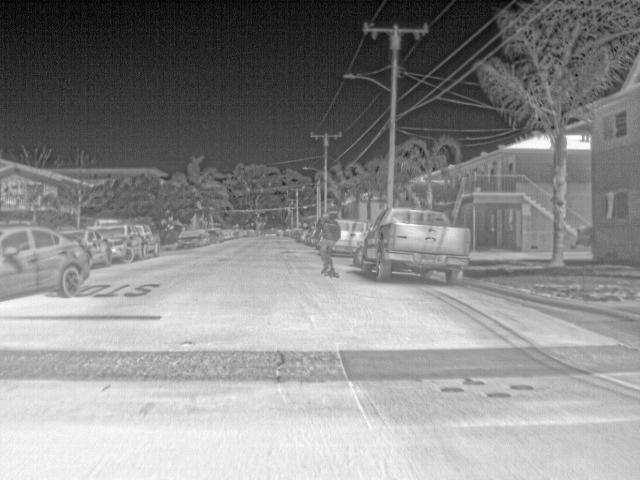car: (361, 206, 471, 280), (0, 224, 96, 299), (96, 220, 146, 264), (61, 228, 112, 266), (331, 218, 369, 255), (175, 228, 205, 248), (145, 223, 161, 257), (209, 225, 225, 243), (300, 226, 313, 245), (223, 226, 237, 240), (199, 227, 208, 246), (291, 225, 303, 238), (283, 227, 295, 238), (237, 227, 249, 238), (275, 228, 284, 237), (248, 229, 259, 236)
person: (312, 212, 340, 278)
